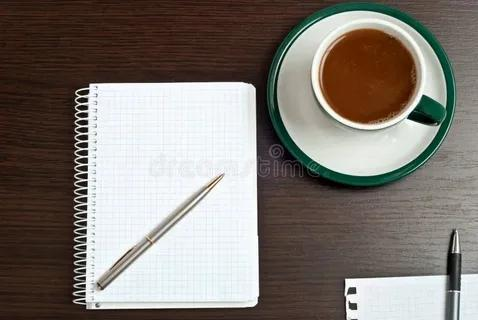pen-pencil: (96, 174, 224, 289), (444, 229, 461, 319)
